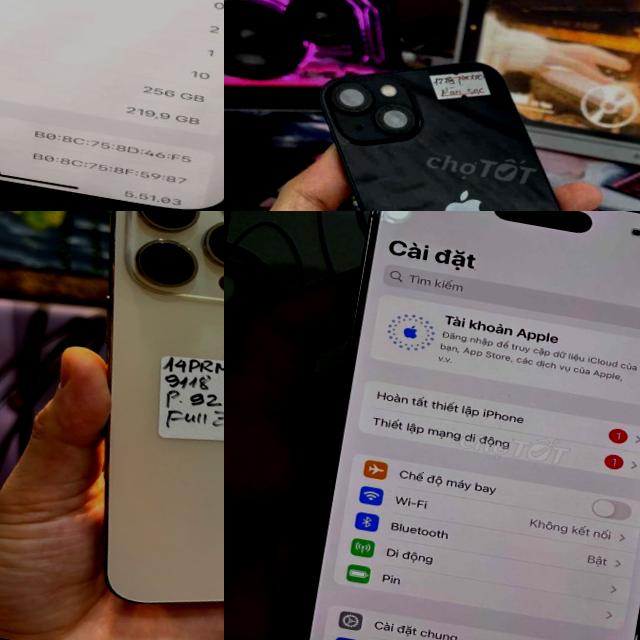gen_12_13: (266, 34, 640, 211), (0, 0, 224, 211)
gen_14: (40, 211, 224, 640)
gen_16: (303, 211, 640, 640)
